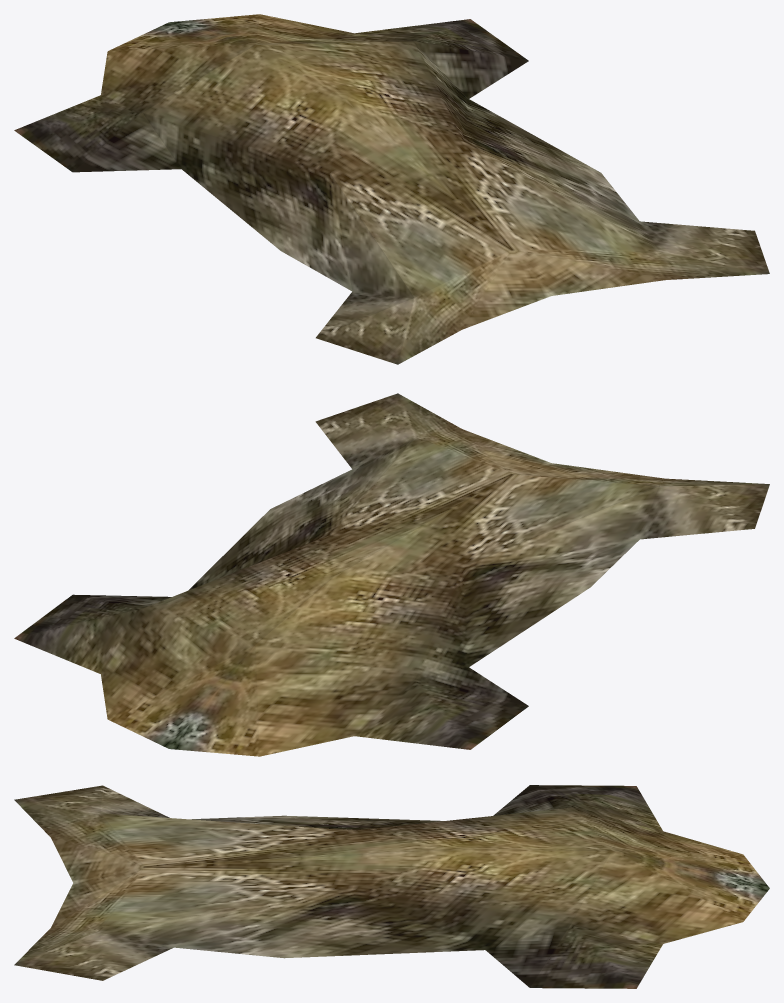
The model's file is ITAT_LURKERSKINFIX.glb.
3 views of the same model, one above another, from view 1: azimuth 30°, elevation 25°; view 2: azimuth 150°, elevation 25°; view 3: azimuth 270°, elevation 25° (orthographic). The views are drawn at different scales.
Parts seen in each view (by area): view 1: ITAT_LURKERSKINFIX; view 2: ITAT_LURKERSKINFIX; view 3: ITAT_LURKERSKINFIX.
Part boxes in pixels (<box>): ITAT_LURKERSKINFIX: <box>14,14,769,364</box>; ITAT_LURKERSKINFIX: <box>14,393,769,756</box>; ITAT_LURKERSKINFIX: <box>14,785,769,988</box>.
Size of the model in its own units: 0.6049 by 0.0578 by 0.9521.
Materials: 1 (1 with a texture image).
